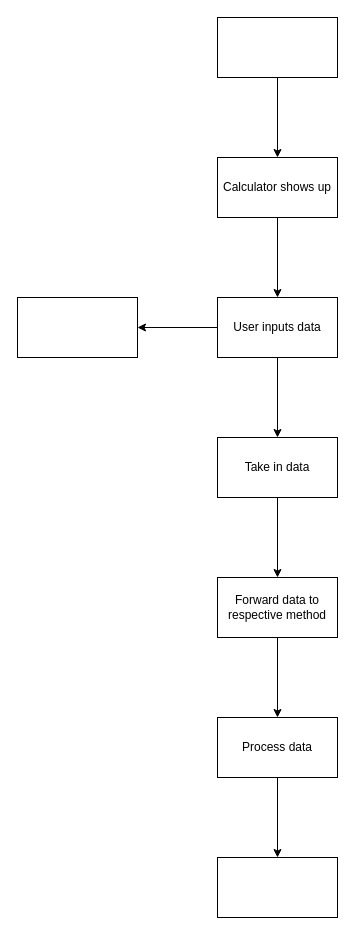
The diagram is 355 pixels wide and 935 high, and some of its shapes have lost their labels. The centre of each missing label's shape, as x and y in pixels:
"button clicks" belongs at point (77, 327).
"console output" belongs at point (277, 887).
"Program starts" belongs at point (277, 47).
